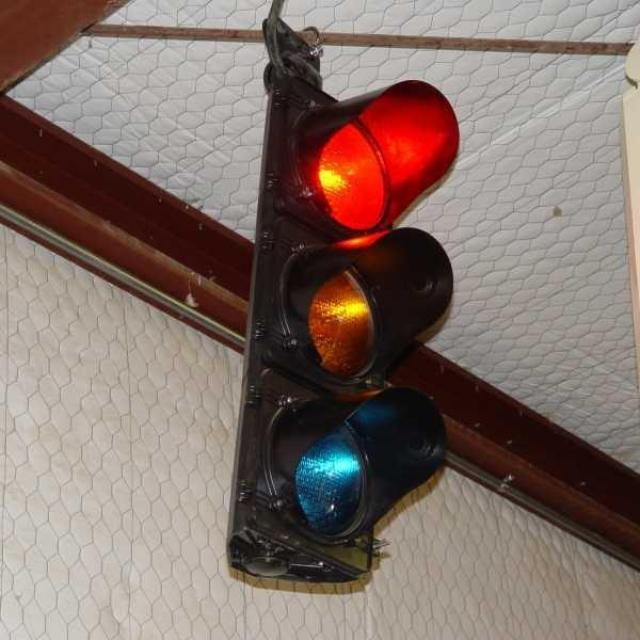Traffic Light -Red-: (217, 72, 479, 590)
